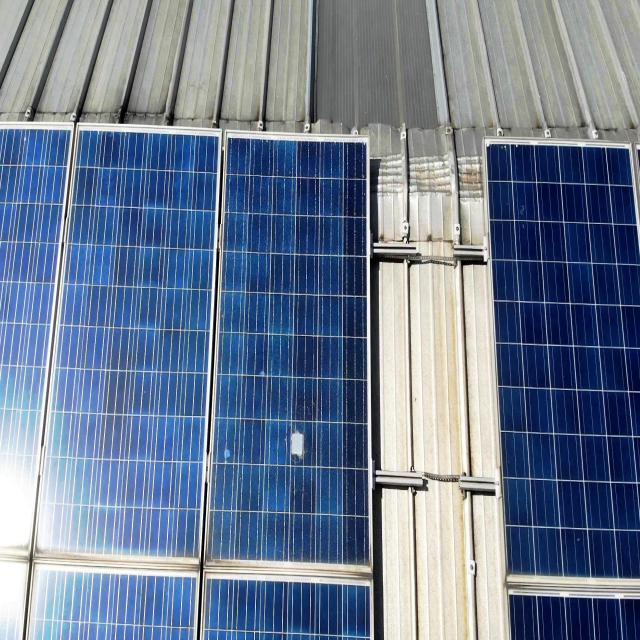faulty: (31, 127, 223, 568), (204, 138, 371, 575), (485, 138, 640, 583)
